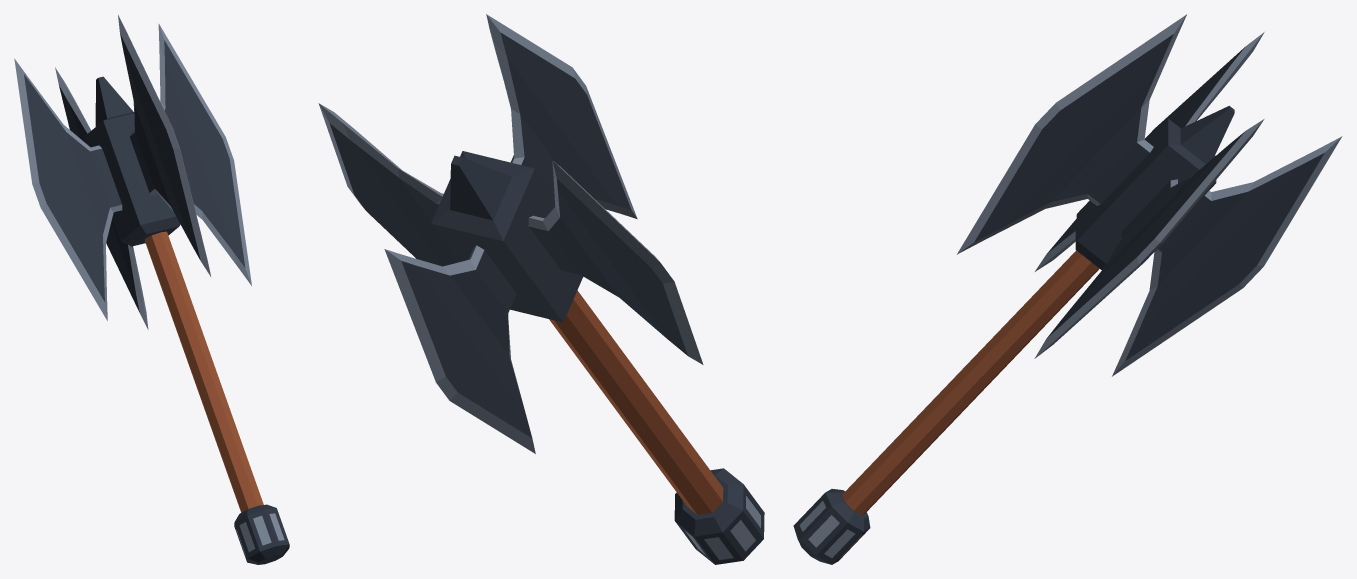
The model's file is Axe_2.fbx.
3 views of the same model, side by side, from view 1: azimuth 30°, elevation 25°; view 2: azimuth 150°, elevation 25°; view 3: azimuth 270°, elevation 25° (orthographic). The views are drawn at different scales.
Visible parts, largest first — view 1: Axe_2; view 2: Axe_2; view 3: Axe_2.
Part boxes in pixels (x1,y1,x2,y2): Axe_2: (14, 15, 289, 564); Axe_2: (318, 14, 764, 564); Axe_2: (793, 14, 1342, 564).
Size of the model in its own units: 16.97 by 33.8 by 37.17.
Materials: 1 (1 with a texture image).
